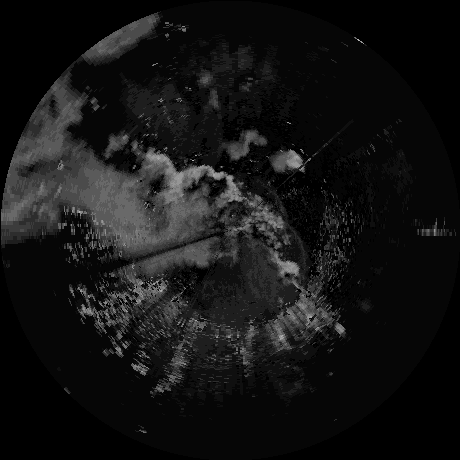frontgust: (263, 177, 289, 221), (290, 226, 306, 280)
